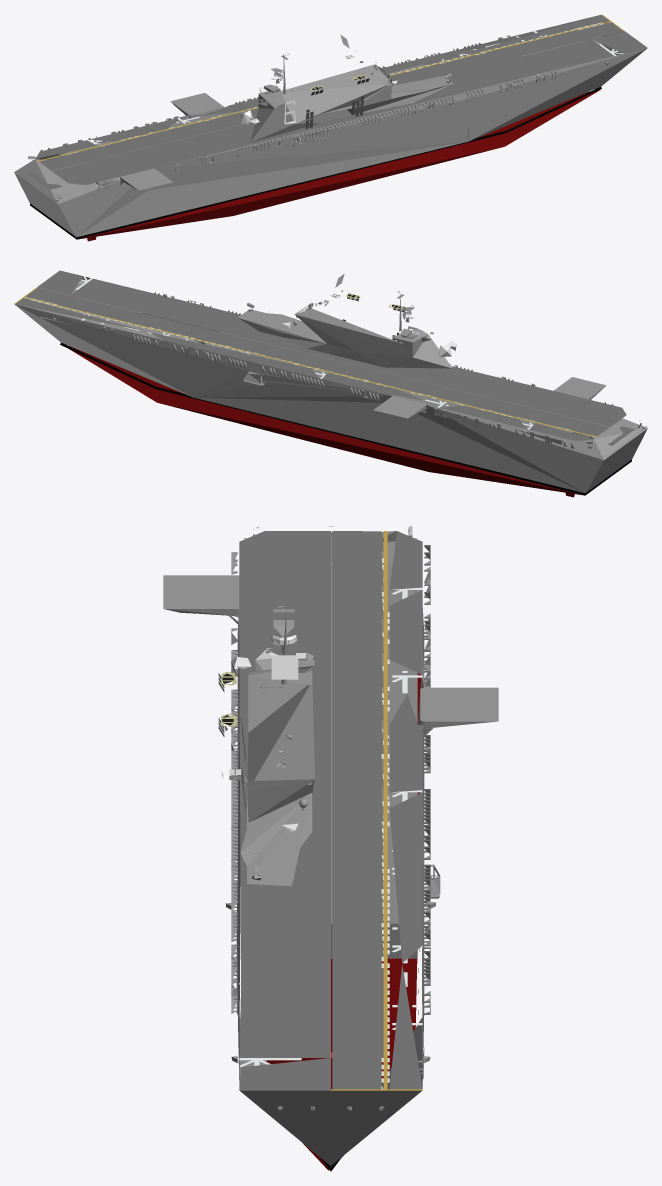
File: LHA.glb
The picture shows the model from 3 angles, top to bottom: view 1: azimuth 30°, elevation 25°; view 2: azimuth 150°, elevation 25°; view 3: azimuth 270°, elevation 25°; orthographic projection. The views are drawn at different scales.
Parts seen in each view (by area): view 1: Object_4, Object_2812, Object_2281, Object_542, Object_2810, Object_617, Object_1287, Object_149; view 2: Object_4, Object_2812, Object_2281, Object_2810, Object_542, Object_617, Object_1287; view 3: Object_2812, Object_4, Object_2810, Object_617, Object_2281, Object_1287.
Part boxes in pixels (<box>): Object_4: <box>14,16,647,237</box>; Object_2812: <box>19,15,647,201</box>; Object_2281: <box>79,89,600,241</box>; Object_542: <box>30,87,601,239</box>; Object_2810: <box>58,64,440,186</box>; Object_617: <box>38,14,624,161</box>; Object_1287: <box>67,22,623,154</box>; Object_149: <box>305,78,369,128</box>; Object_4: <box>14,273,647,493</box>; Object_2812: <box>15,270,647,451</box>; Object_2281: <box>69,346,582,497</box>; Object_2810: <box>205,332,582,444</box>; Object_542: <box>60,342,631,495</box>; Object_617: <box>14,287,596,437</box>; Object_1287: <box>25,276,568,429</box>; Object_2812: <box>239,531,422,1090</box>; Object_4: <box>163,526,498,1165</box>; Object_2810: <box>331,566,417,958</box>; Object_617: <box>331,531,422,1090</box>; Object_2281: <box>266,673,421,1170</box>; Object_1287: <box>239,558,422,1089</box>.
Size of the model in its own units: 119 by 27.94 by 29.14.
